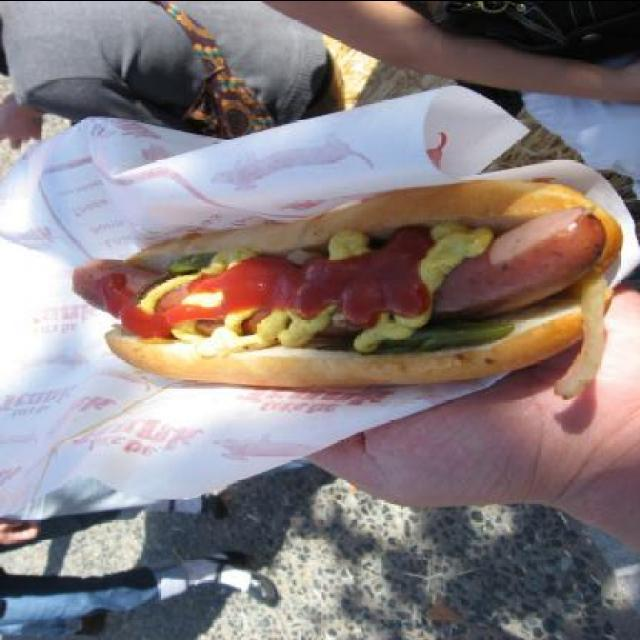Hot dog: (62, 243, 626, 375)
